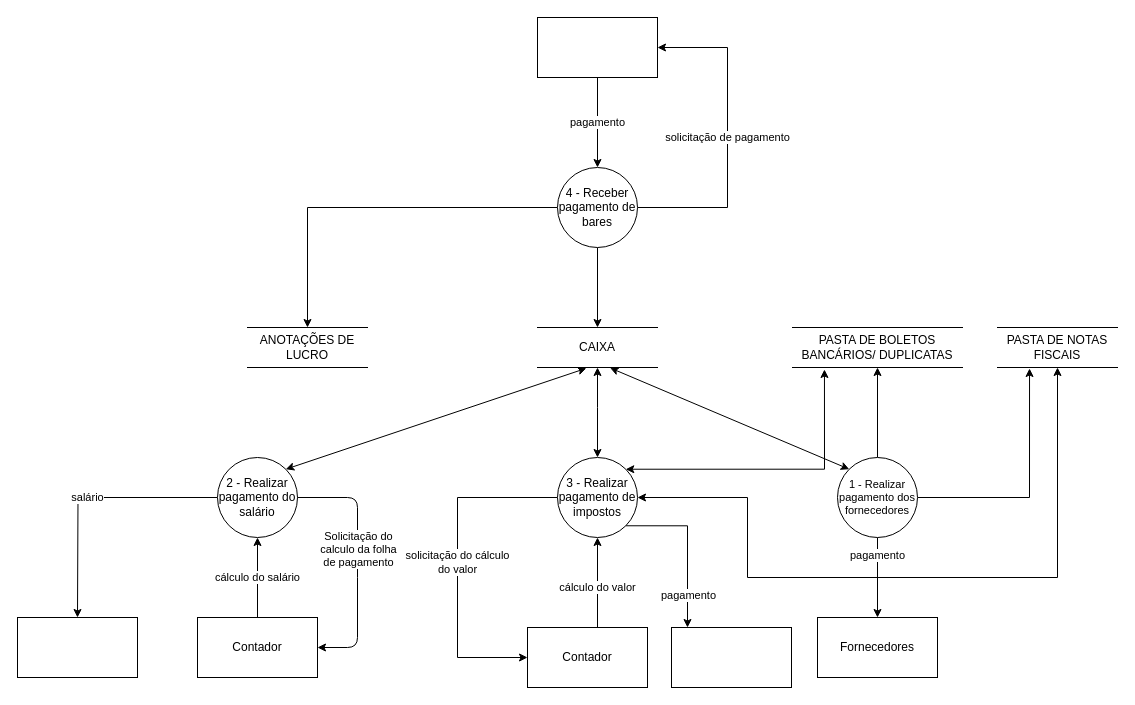
Image size: 1135x705. Some labels were removed from this diagram. The box of each missing label's shape, as (x1, y1, x2, y2) in pixels:
Bares associados: (536, 16, 658, 78)
Funcionários: (16, 616, 138, 678)
Governo: (670, 626, 792, 688)
